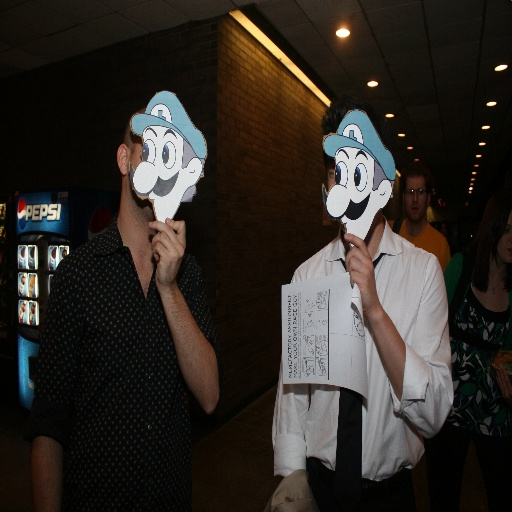hand: (146, 213, 187, 287), (343, 232, 377, 314), (492, 364, 511, 410)
